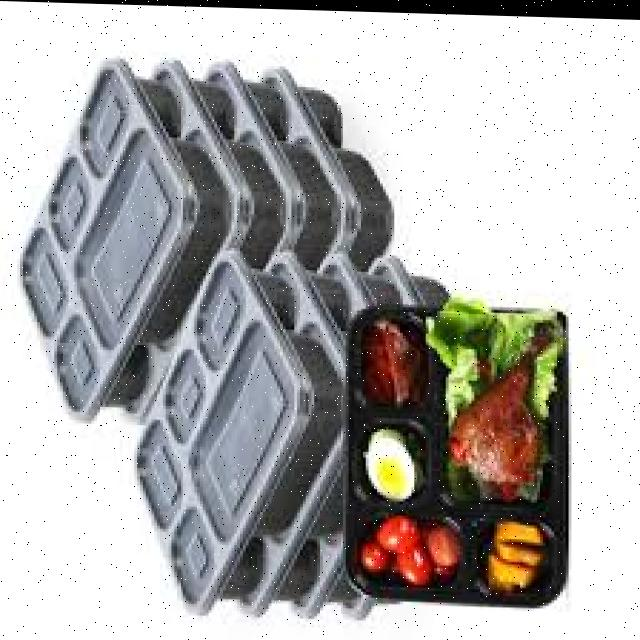disposable: (8, 50, 236, 424), (130, 229, 346, 616), (338, 275, 584, 611)
